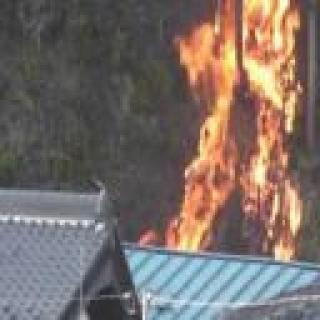fire: (185, 0, 319, 264)
